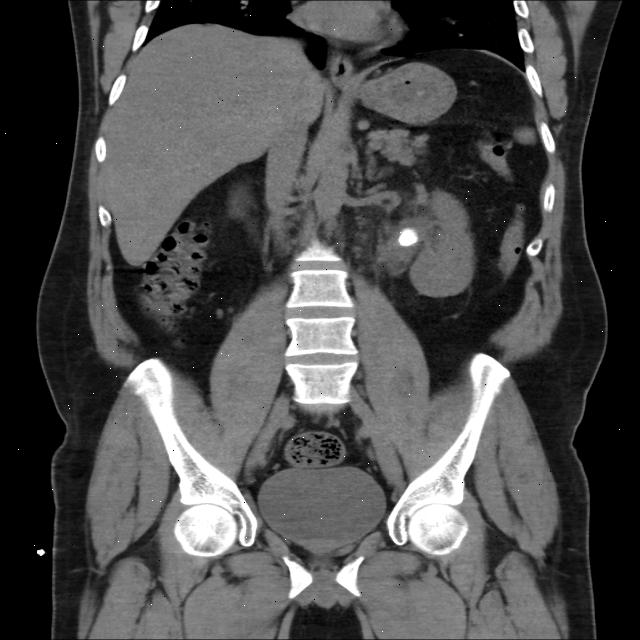kidneystone: (399, 229, 418, 246)
